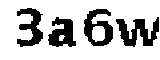3: (13, 3, 46, 48)
6: (78, 1, 115, 49)
a: (46, 15, 81, 49)
w: (113, 16, 160, 50)
